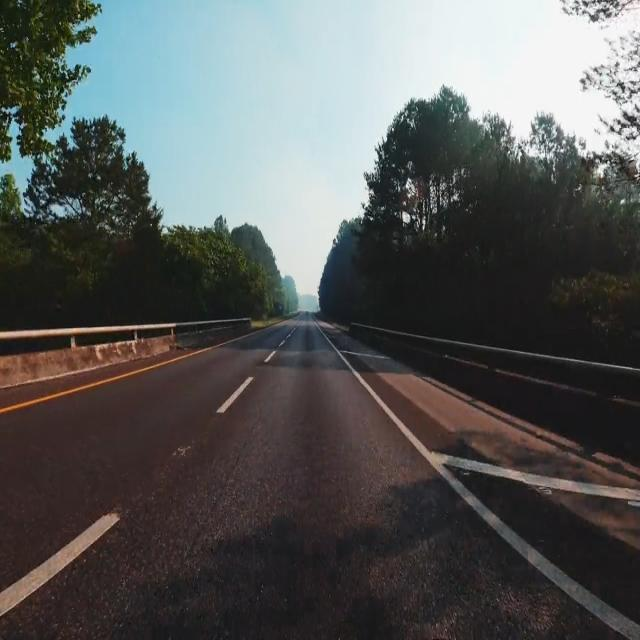asphalt: (0, 316, 640, 639)
